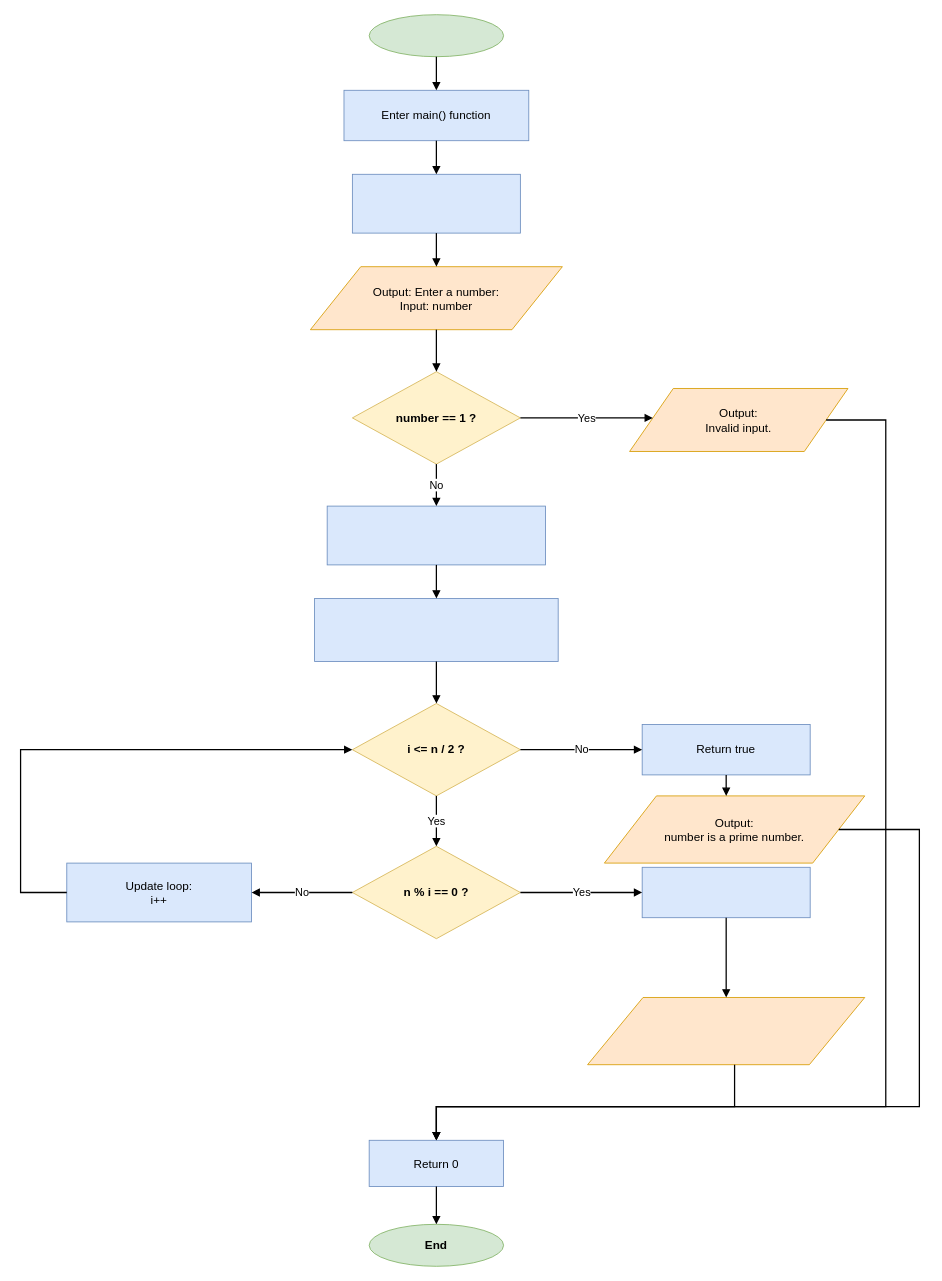
The diagram is 942 pixels wide and 1281 high, and some of its shapes have lost their labels. The centre of each missing label's shape, as x and y in pixels:
"Call function: isPrime(number)" goes at pixel 436 535.
"Declare variable: int number" goes at pixel 436 203.
"Enter isPrime(n) Initialize: i = 2" goes at pixel 436 630.
"Output: number is not a prime number." goes at pixel 726 1031.
"Return false" goes at pixel 725 892.
"Start" goes at pixel 436 35.
